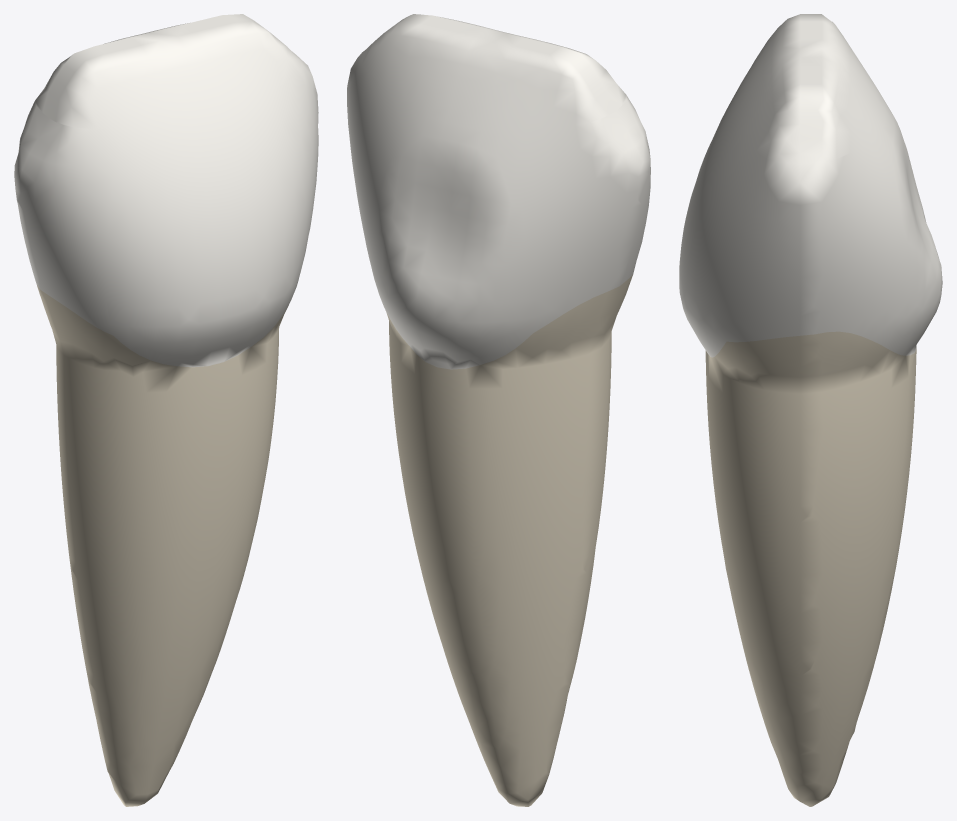
The picture shows the model from 3 angles, left to right: view 1: azimuth 30°, elevation 25°; view 2: azimuth 150°, elevation 25°; view 3: azimuth 270°, elevation 25°; orthographic projection.
Visible parts, largest first — view 1: root, V, I, D, M; view 2: root, L, D, I, M; view 3: root, M, I, L, V.
Part boxes in pixels (x1,y1,x2,y2): root: (36,284,288,806); V: (105,95,306,367); I: (35,14,302,129); D: (14,101,125,335); M: (262,57,318,268); root: (384,275,632,806); L: (367,101,538,369); D: (525,95,650,333); I: (359,14,626,130); M: (347,53,395,286); root: (705,331,916,806); M: (719,140,889,344); I: (745,14,877,163); L: (871,84,942,355); V: (679,74,748,357).
Bounding box in the file's own units: 6.44 × 15.98 × 4.98.
